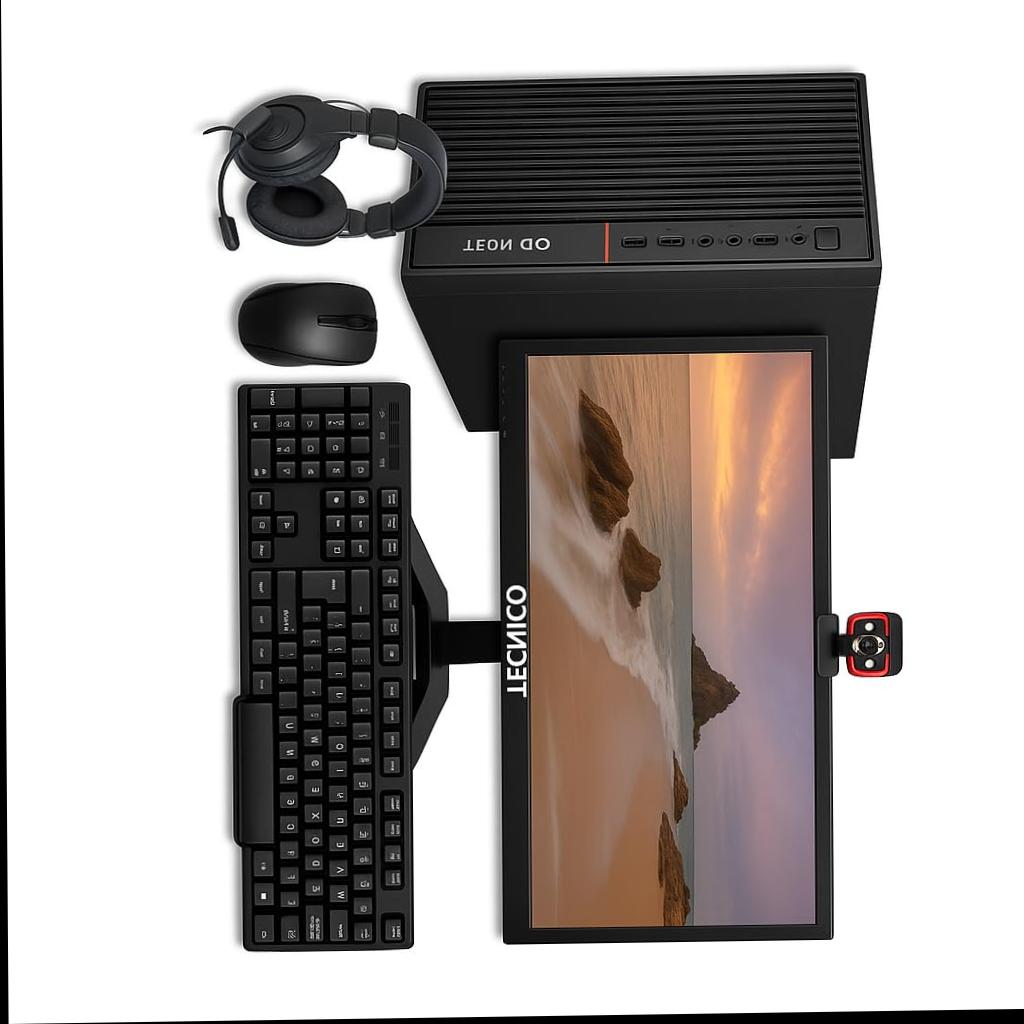keyboard: (222, 376, 431, 959)
monitor: (476, 323, 841, 950)
mouse: (218, 273, 400, 374)
pc: (400, 68, 894, 328)
